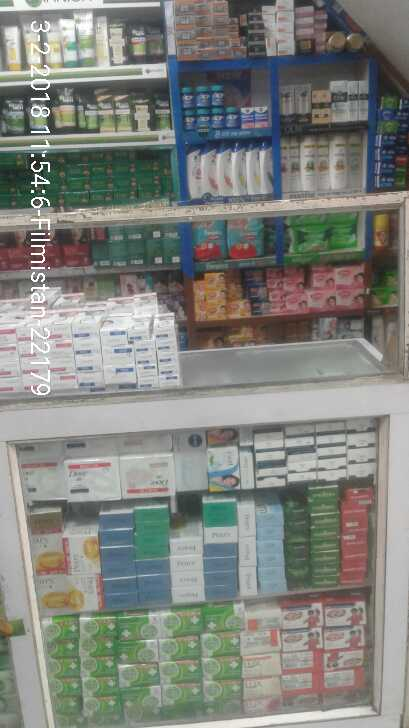vicks: (179, 85, 267, 131)
